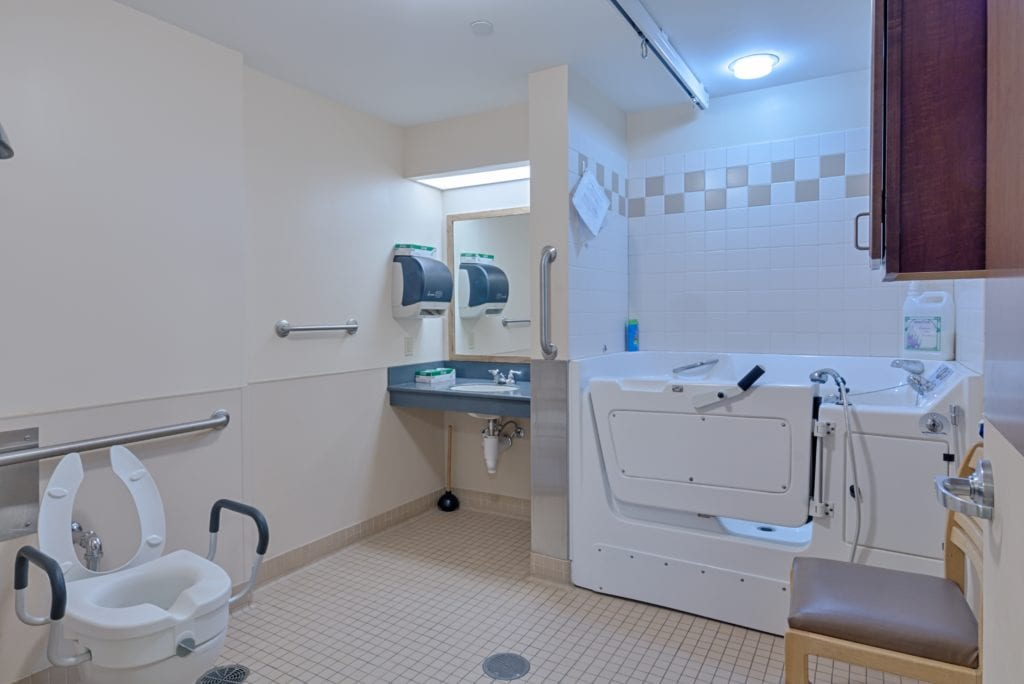cabinet: (853, 1, 984, 272)
chair: (783, 439, 985, 684)
counter: (388, 369, 531, 417)
countertop: (387, 377, 531, 398)
dispenser: (391, 244, 453, 321), (897, 280, 957, 357)
door_handle: (937, 467, 996, 519)
faucet: (488, 369, 521, 386), (890, 359, 925, 375)
handle: (853, 210, 872, 251)
restroom_assist_bar: (1, 407, 230, 470), (13, 546, 91, 666), (198, 499, 268, 604), (538, 245, 557, 360), (275, 319, 360, 338), (420, 362, 458, 385), (673, 358, 720, 374)
sink: (448, 383, 522, 392)
toilet: (35, 444, 235, 684)
